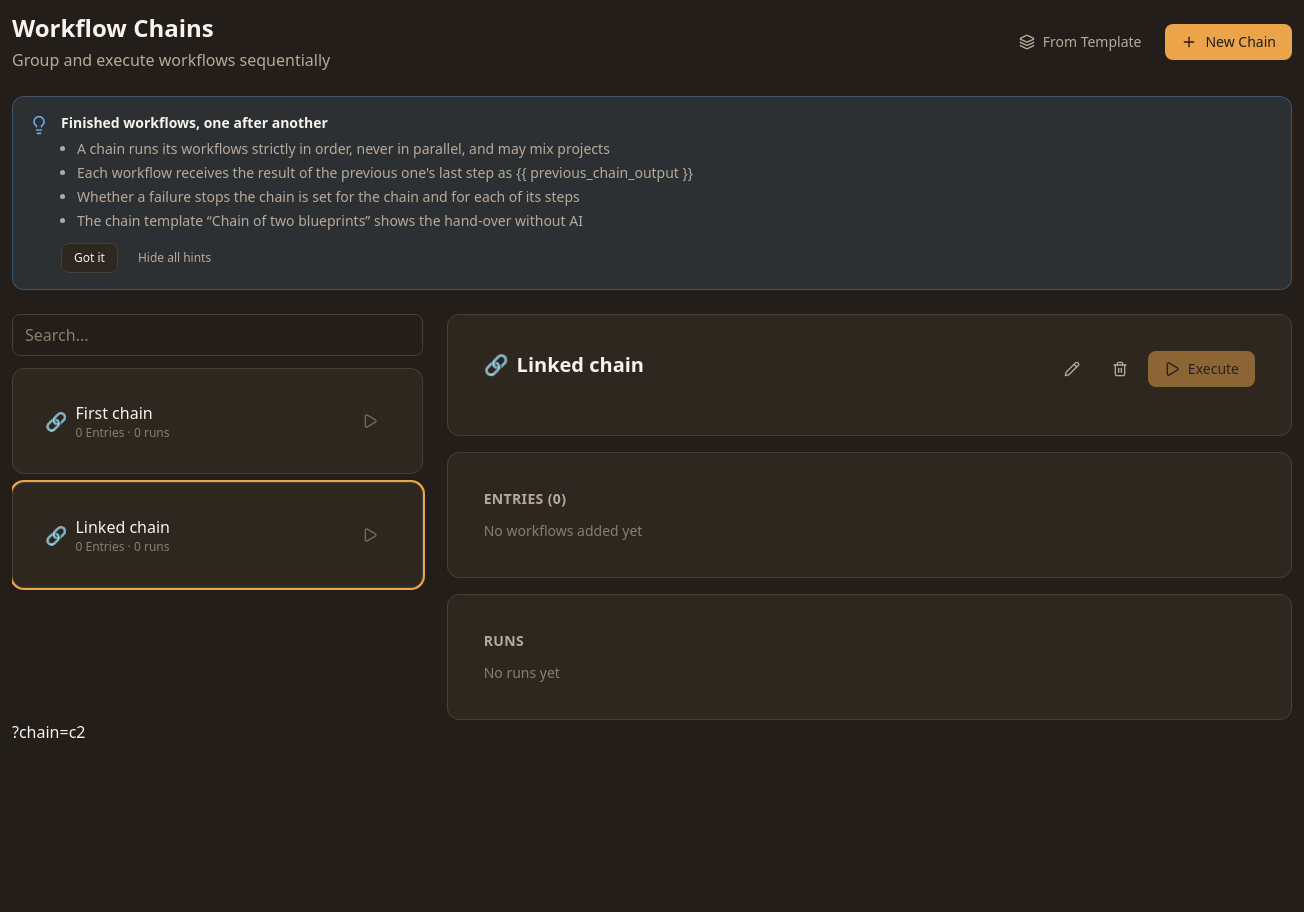
/chains?chain=<id> › selects the linked chain instead of the first, and keeps the selection in the URL
The width and height of the screenshot is (1304, 912).
Expected: the heading "🔗 Linked chain" is shown, [484,351,644,379]
Click the text "First chain": (114, 413) [76,402,153,424]
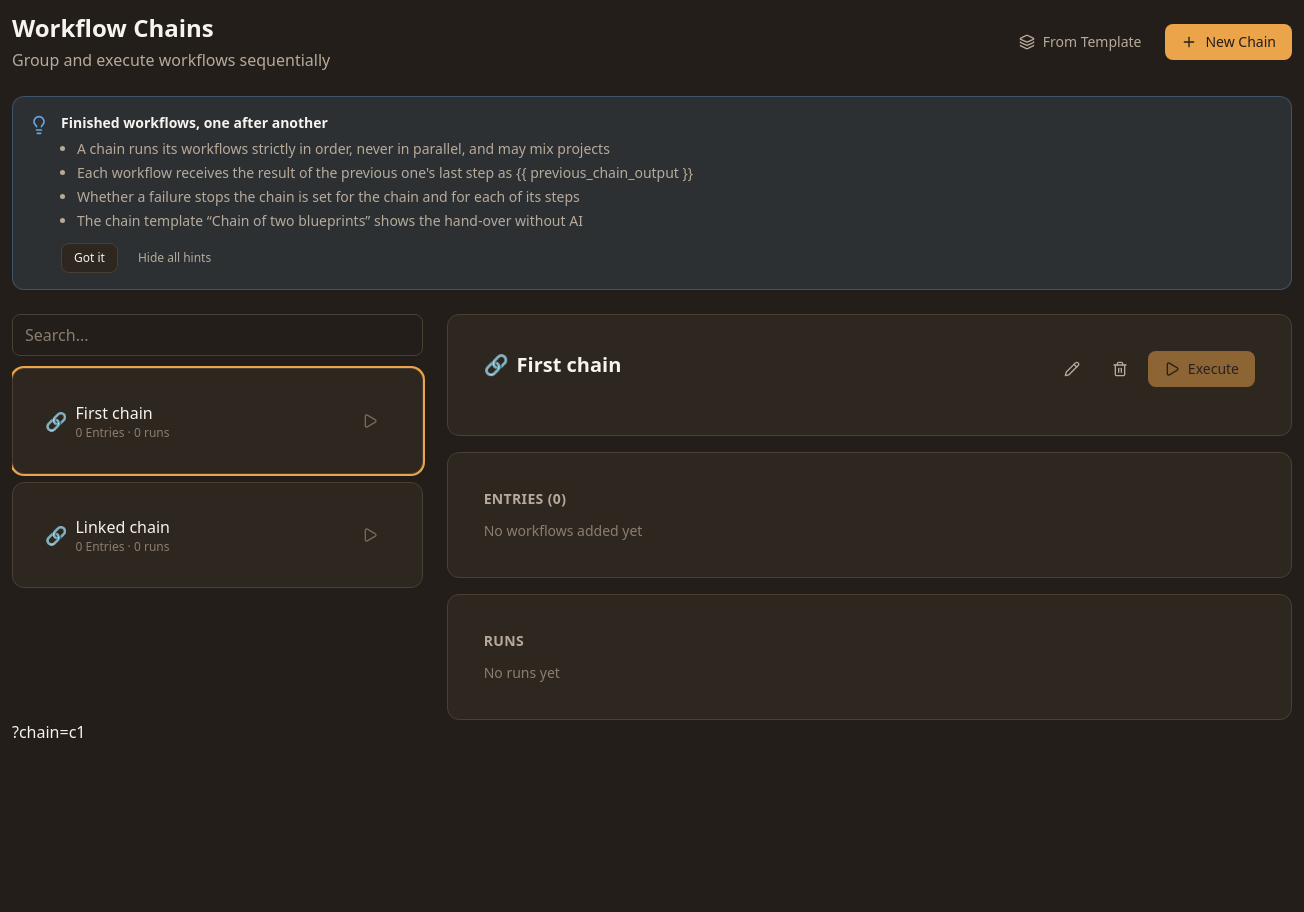
Expected: the text with test id "search" reads "?chain=c1", [12,721,86,743]
